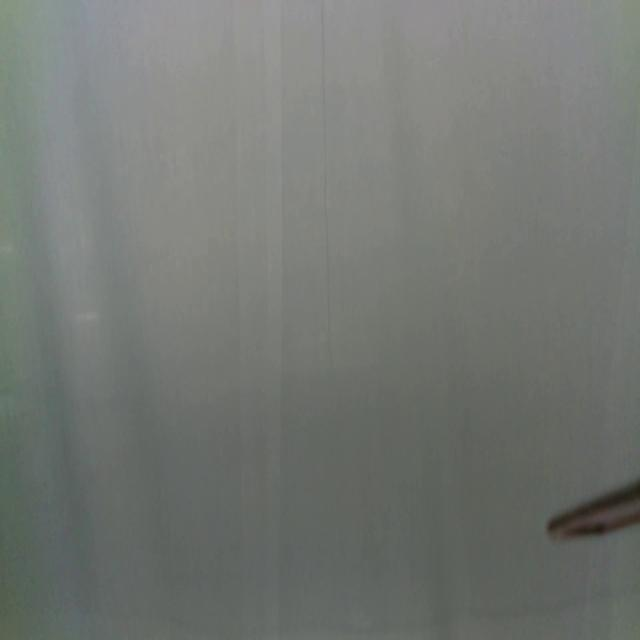crease: (232, 0, 285, 640), (319, 0, 334, 374)
